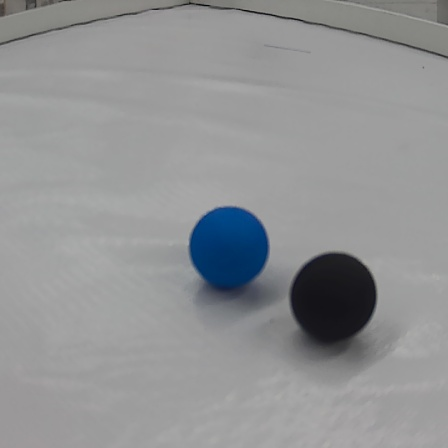black: (287, 247, 379, 348)
blue: (188, 207, 270, 294)
